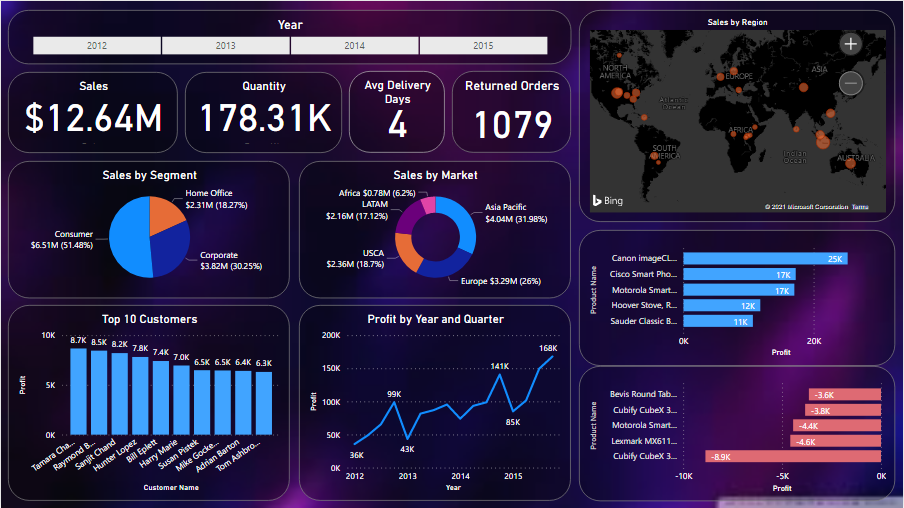

The page's visual inventory and layout, read from the dashboard file:
{"tool":"powerbi","page":{"name":"Page 1","canvas":[1280,720],"ordinal":0},"visuals":[{"type":"card","title":"Quantity","fields":{"Values":["Orders.Quantity"]},"box":[261.3,100.8,223,115],"z":0},{"type":"card","title":"Sales","fields":{"Values":["Orders.Sales"]},"box":[9.9,100.8,241.4,115],"z":1000},{"type":"card","title":"Avg Delivery Days","fields":{"Values":["Orders.delivery"]},"box":[494.2,99.4,136.3,116.4],"z":2000},{"type":"slicer","title":"Year","fields":{"Values":["Orders.Year"]},"box":[9.9,12.8,799.5,76.7],"z":3000},{"type":"card","title":"Returned Orders","fields":{"Values":["Returns.Return Orders"]},"box":[640.5,99.4,169,116.4],"z":4000},{"type":"map","fields":{"Size":["Orders.Sales"],"Category":["Orders.Region"]},"box":[820.8,12.8,448.8,301.1],"z":5000},{"type":"barChart","fields":{"Y":["Orders.Profit"],"Category":["Orders.Product Name"]},"box":[820.8,325.2,448.8,193.1],"z":6000},{"type":"barChart","fields":{"Y":["Orders.Profit"],"Category":["Orders.Product Name"]},"box":[820.8,518.3,448.8,191.7],"z":7000},{"type":"pieChart","fields":{"Y":["Orders.Sales"],"Category":["Orders.Segment"]},"box":[9.9,227.2,400.5,194.6],"z":8000},{"type":"donutChart","fields":{"Y":["Orders.Sales"],"Category":["Orders.Market"]},"box":[423.2,227.2,386.3,194.6],"z":9000},{"type":"columnChart","title":"Top 10 Customers","fields":{"Y":["Orders.Profit"],"Category":["Orders.Customer Name"]},"box":[9.9,431.7,400.5,278.3],"z":10000},{"type":"lineChart","fields":{"Y":["Orders.Profit"],"Category":["Orders.Order Date.Variation.Date Hierarchy.Year","Orders.Order Date.Variation.Date Hierarchy.Quarter","Orders.Order Date.Variation.Date Hierarchy.Month","Orders.Order Date.Variation.Date Hierarchy.Day"]},"box":[423.2,431.7,386.3,278.3],"z":11000}]}

Visuals, with their boxes in screenshot pixels (x1, y1, x2, y2), scaled from the page's 1280x720 canvas onto the 904x508 screenshot:
"Quantity" card: left=185, top=71, right=342, bottom=152
"Sales" card: left=7, top=71, right=177, bottom=152
"Avg Delivery Days" card: left=349, top=70, right=445, bottom=152
"Year" slicer: left=7, top=9, right=572, bottom=63
"Returned Orders" card: left=452, top=70, right=572, bottom=152
map - Orders.Sales x Orders.Region: left=580, top=9, right=897, bottom=221
barChart - Orders.Profit x Orders.Product Name: left=580, top=229, right=897, bottom=366
barChart - Orders.Profit x Orders.Product Name: left=580, top=366, right=897, bottom=501
pieChart - Orders.Sales x Orders.Segment: left=7, top=160, right=290, bottom=298
donutChart - Orders.Sales x Orders.Market: left=299, top=160, right=572, bottom=298
"Top 10 Customers" columnChart: left=7, top=305, right=290, bottom=501
lineChart - Orders.Profit x Orders.Order Date.Variation.Date Hierarchy.Year: left=299, top=305, right=572, bottom=501
